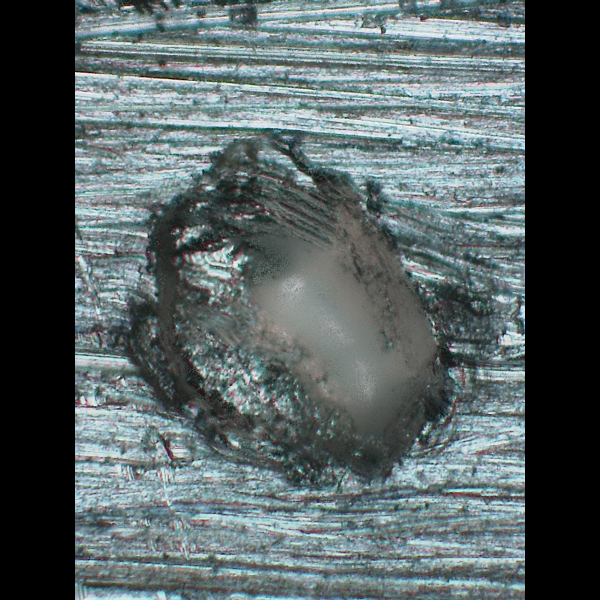d: (120, 111, 500, 507)
